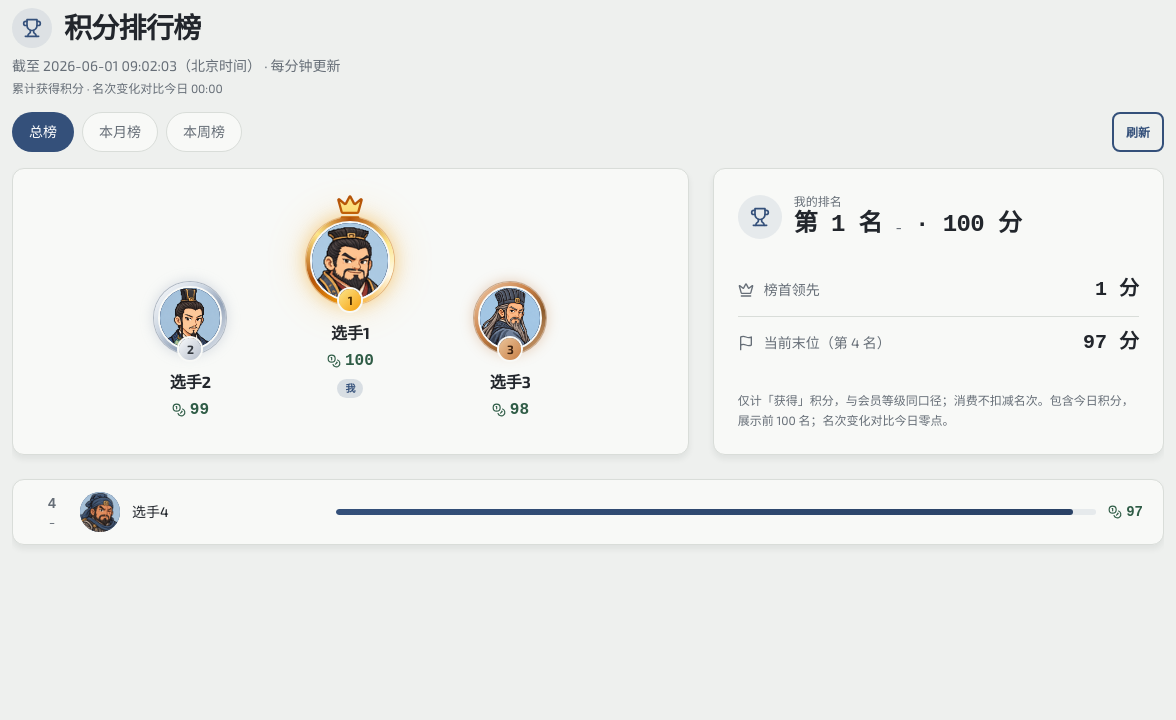
Test: LeaderboardPage current periods and identity › does not claim every empty week is a new week or requires waiting until tomorrow
Click the button with test id "leaderboard-tab-week": (204, 132) [166,112,242,152]
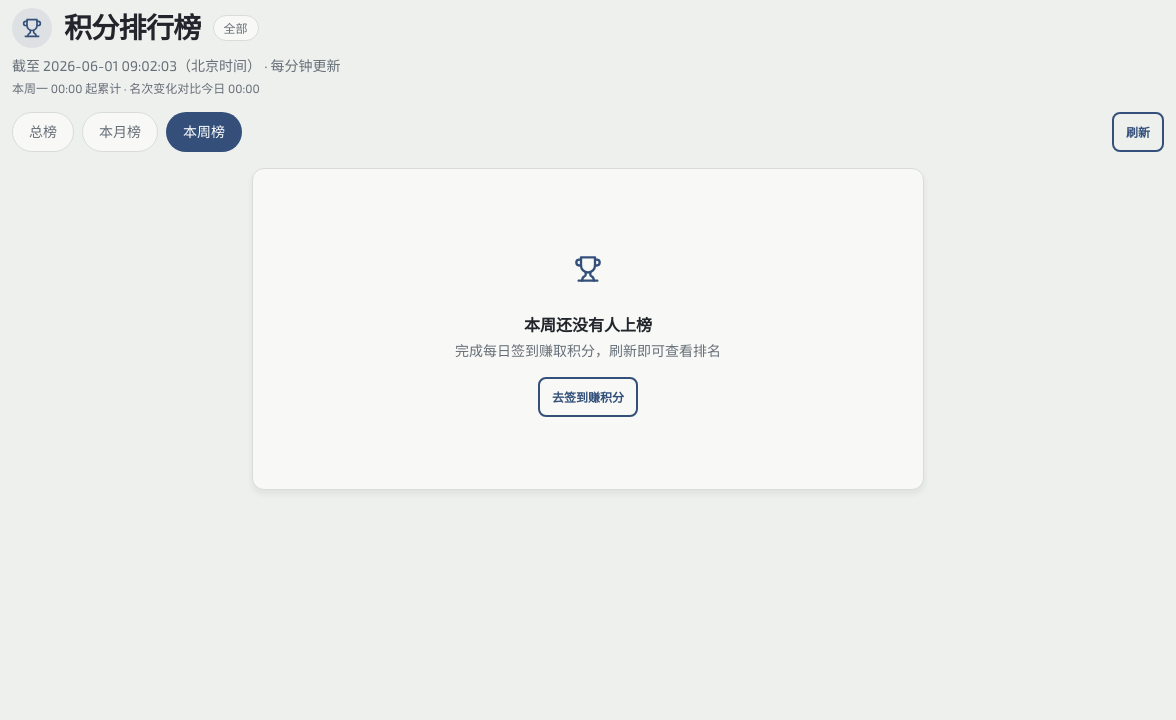
Result: the text "本周还没有人上榜" is shown at [524,313,652,337]
Result: the text "本周一 00:00 起累计 · 名次变化对比今日 00:00" is shown at [12,81,260,95]
